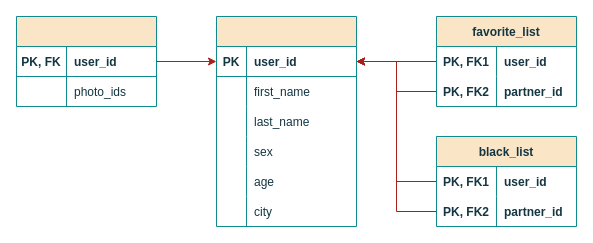
Image size: 593x243. Some labels were removed from this diagram. Each missing label, with the box of its shape:
photos: (16, 16, 156, 106)
users: (216, 16, 356, 226)
